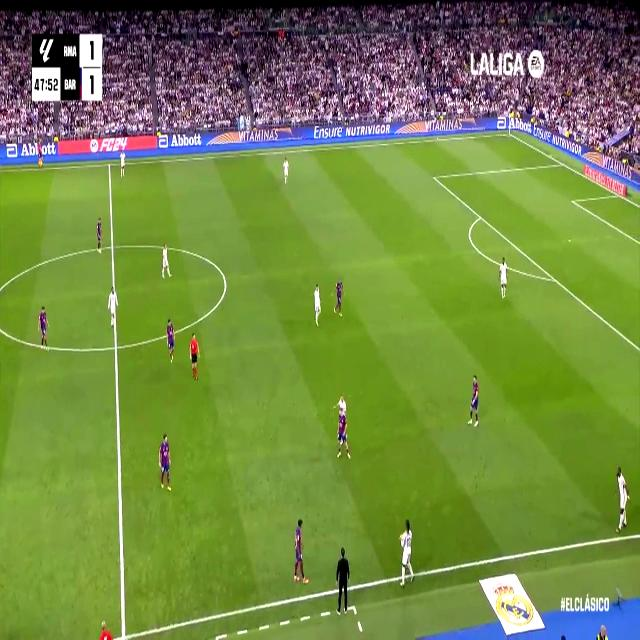bigarea_top_inner: (431, 171, 437, 183)
bottom_arc_area_intersection: (550, 272, 558, 286)
corner: (506, 130, 512, 138)
halfcircle_bottom: (111, 334, 121, 360)
halfcircle_top: (107, 236, 117, 256)
midline_bottom_intersection: (117, 618, 130, 640)
midline_top_intersection: (106, 158, 113, 171)
smallarea_top_inner: (570, 196, 576, 206)
top_arc_area_intersection: (477, 210, 483, 222)
